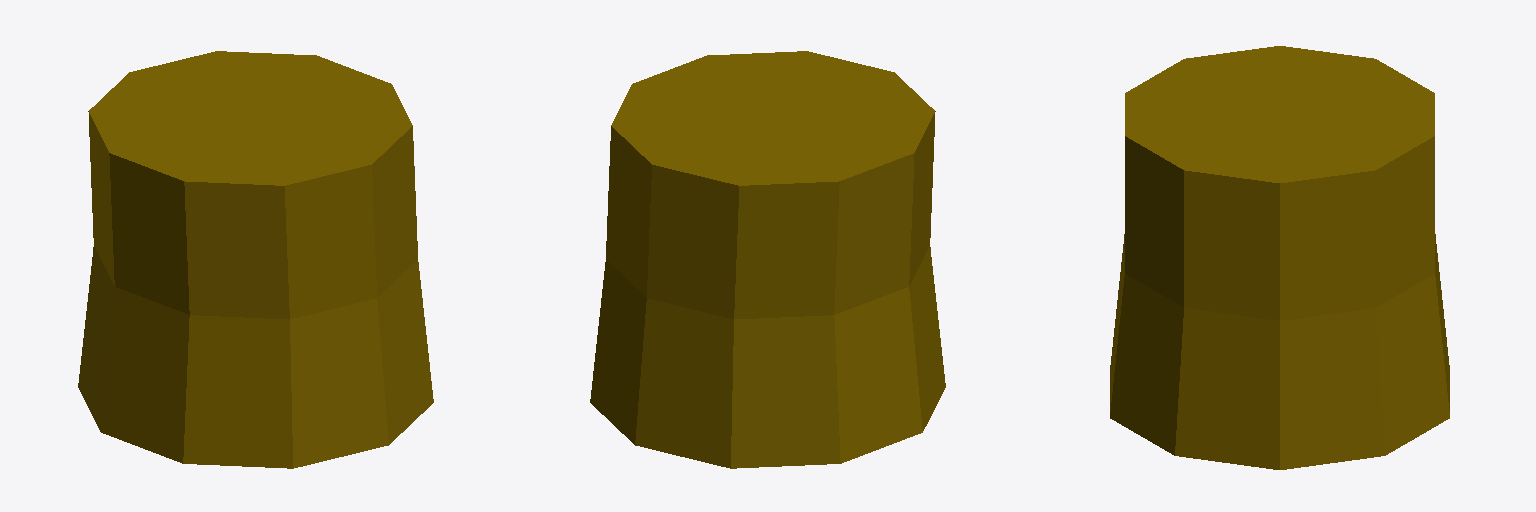
The model's file is FootStool_01.obj.
The picture shows the model from 3 angles: view 1: azimuth 30°, elevation 25°; view 2: azimuth 150°, elevation 25°; view 3: azimuth 270°, elevation 25°; orthographic projection.
Visible parts, largest first — view 1: Wooden_Footstool_01; view 2: Wooden_Footstool_01; view 3: Wooden_Footstool_01.
Boxes of the visible parts, box(x1,y1,x2,y2) form: Wooden_Footstool_01: box(78, 51, 433, 468); Wooden_Footstool_01: box(590, 51, 945, 468); Wooden_Footstool_01: box(1110, 46, 1449, 469).
Size of the model in its own units: 0.5832 by 0.4993 by 0.5547.